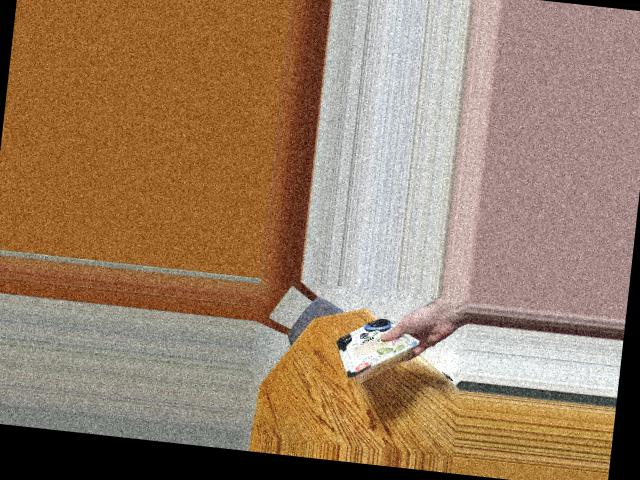cheese: (326, 311, 415, 400)
